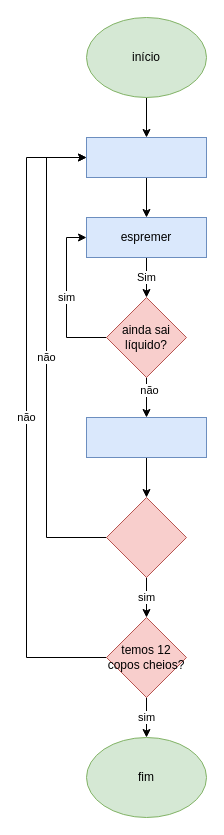
This 224x835 diagram has some shape labels left out. The shapes that lost their labels are listed below. From the top down, each one's centre as x and y in pixels, then its label:
the point at 146,157: pegar laranja
the point at 146,437: despejar conteúdo no copo
the point at 146,537: copo está cheio?
